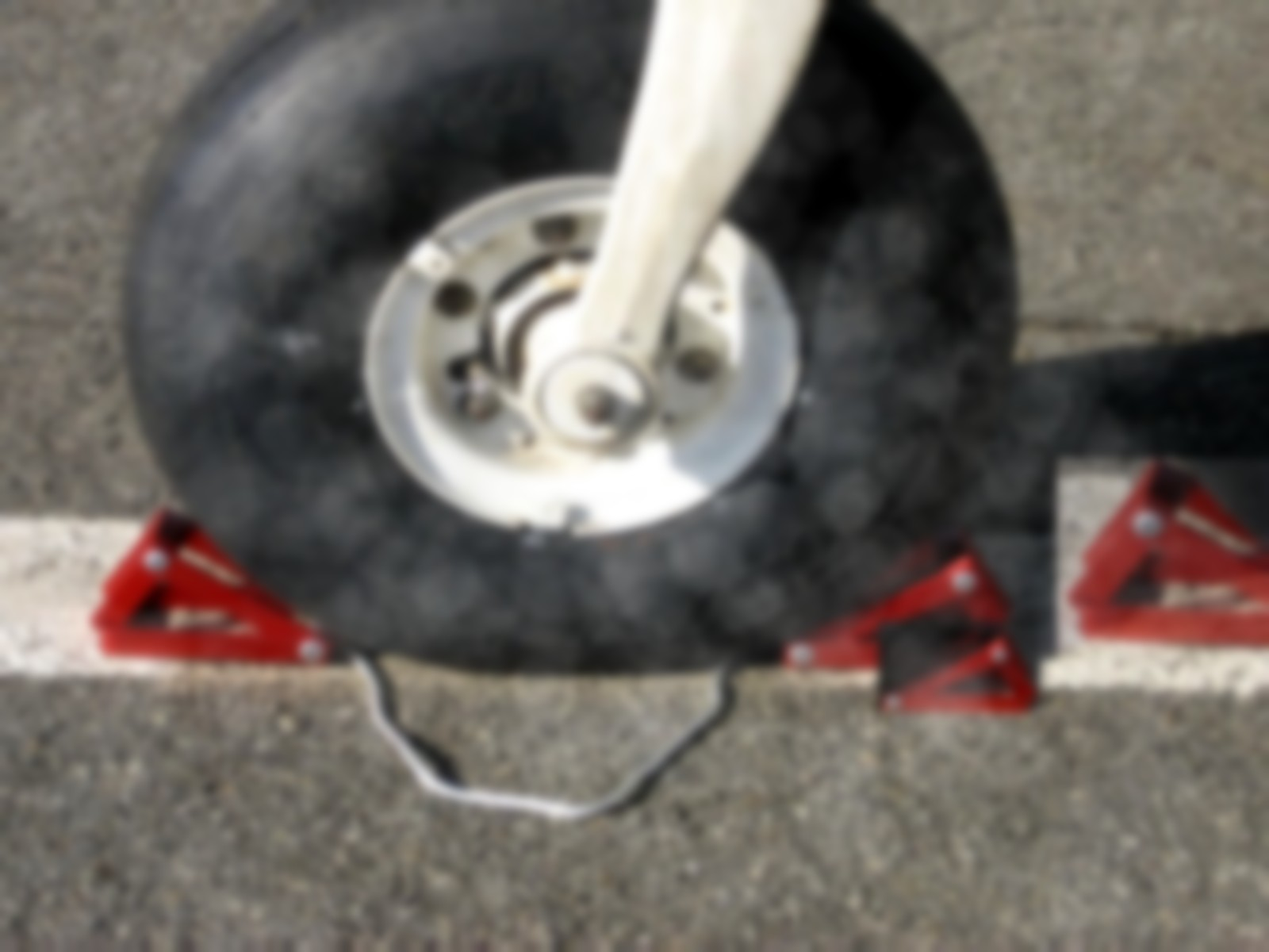chock: (1057, 458, 1269, 651), (81, 506, 337, 665), (778, 529, 1027, 672), (878, 621, 1040, 714)
wheel: (121, 0, 992, 658)
